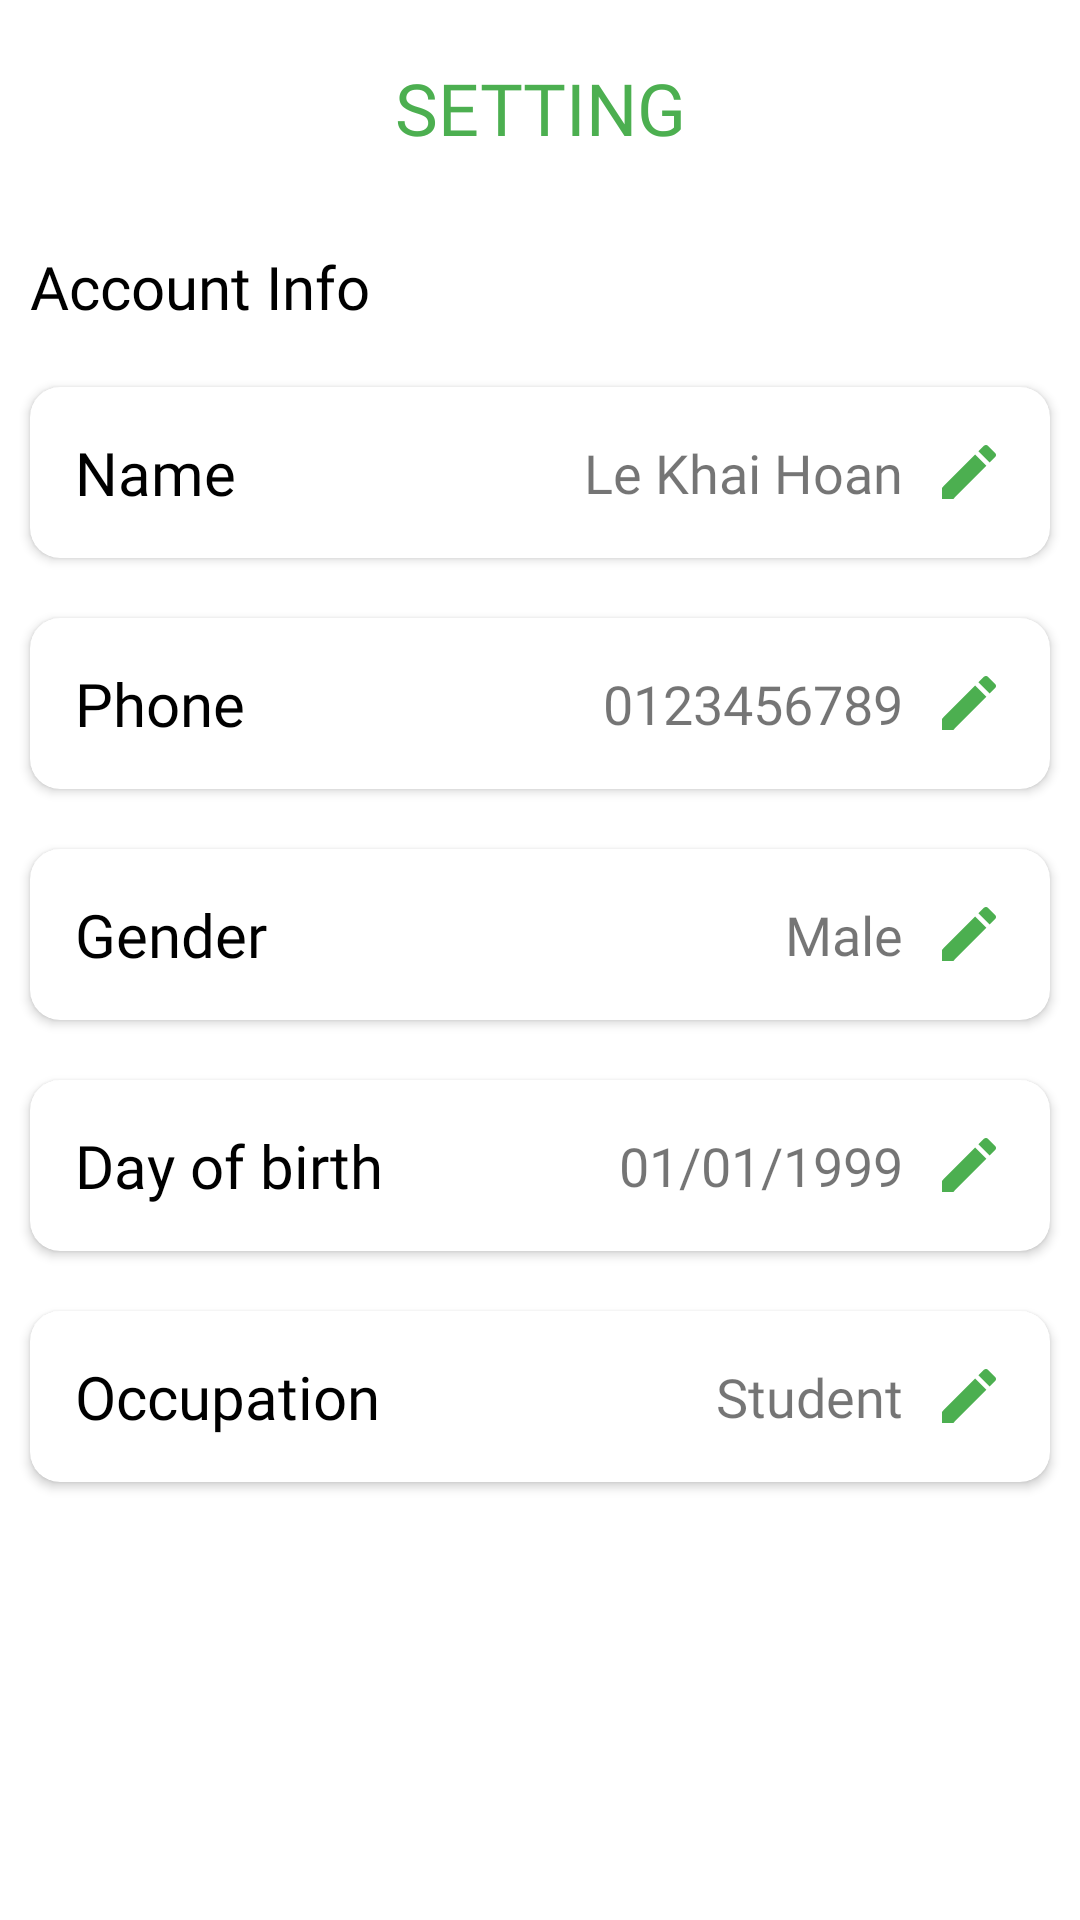

Screen size 1080px x 1920px. Icon name, then its box in pixels as (x1, y1, x2, y2):
edit: (942, 445, 996, 499), (942, 676, 996, 730), (942, 907, 996, 961), (942, 1138, 996, 1192), (942, 1369, 996, 1423)
